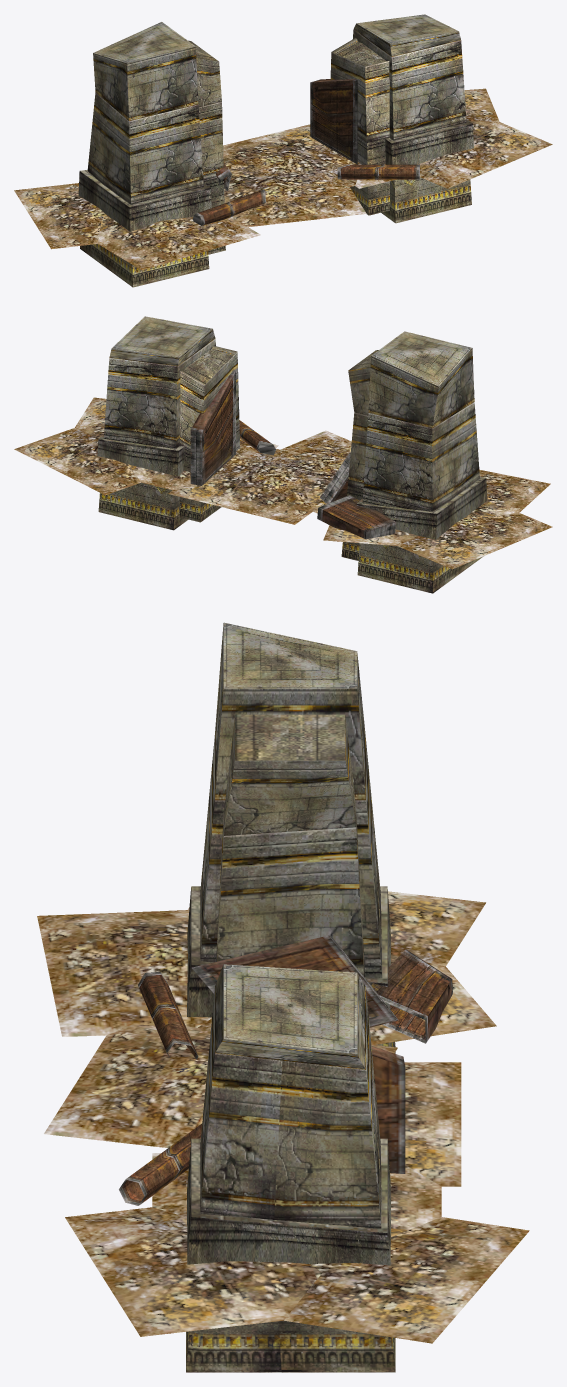
The model's file is troy_gate_dead_base.glb.
3 views of the same model, one above another, from view 1: azimuth 30°, elevation 25°; view 2: azimuth 150°, elevation 25°; view 3: azimuth 270°, elevation 25° (orthographic). The views are drawn at different scales.
Parts seen in each view (by area): view 1: MeshRoot; view 2: MeshRoot; view 3: MeshRoot.
Boxes of the visible parts, x1,y1,x2,y2 form: MeshRoot: (14, 14, 552, 287); MeshRoot: (14, 316, 552, 593); MeshRoot: (37, 622, 529, 1372).
Size of the model in its own units: 26.5 by 11.17 by 11.69.
Materials: 4 (4 with a texture image).
